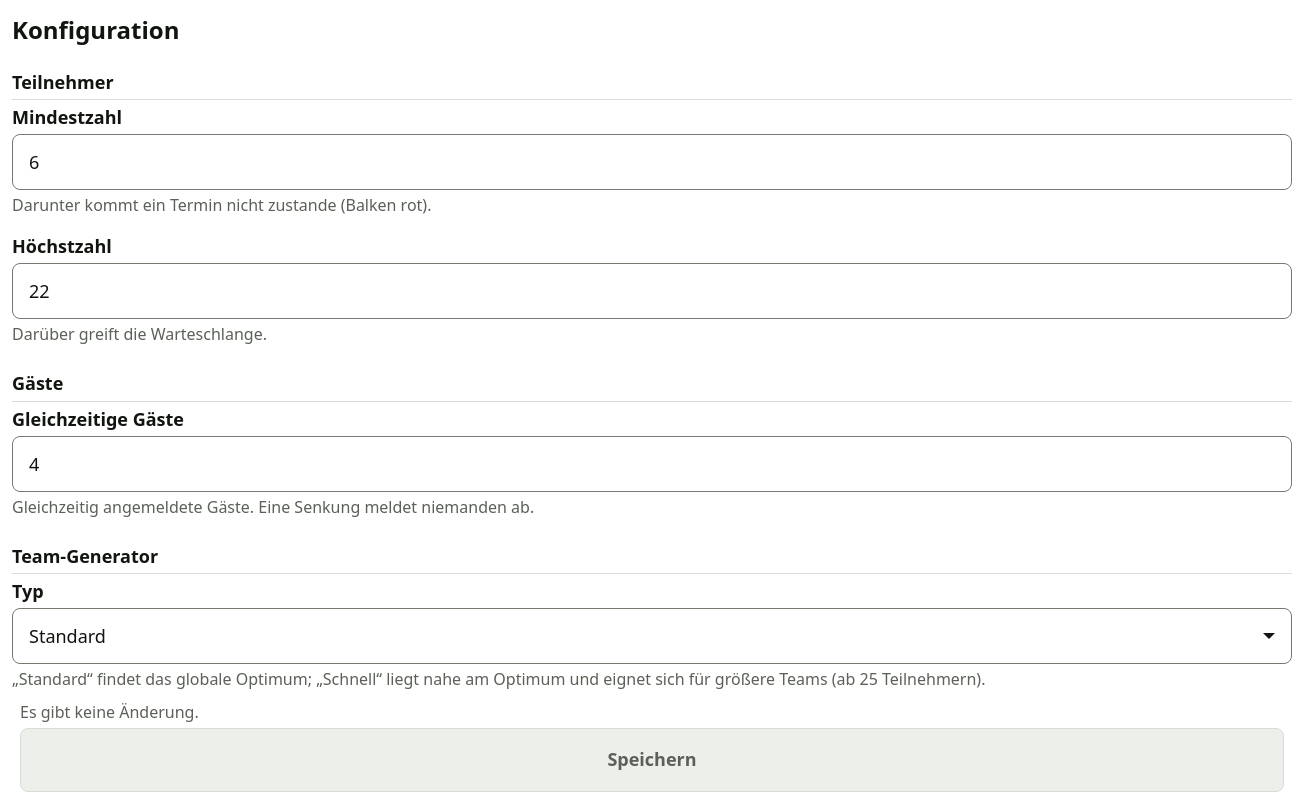
Scenario: AdminKonfiguration – Prüfung › beim Verlassen eines Feldes erscheint der Fehler, vorher nicht
Replace the text in the field with test id "admin-konfig-anzGuests" with "99": (652, 464) [12, 436, 1292, 492]
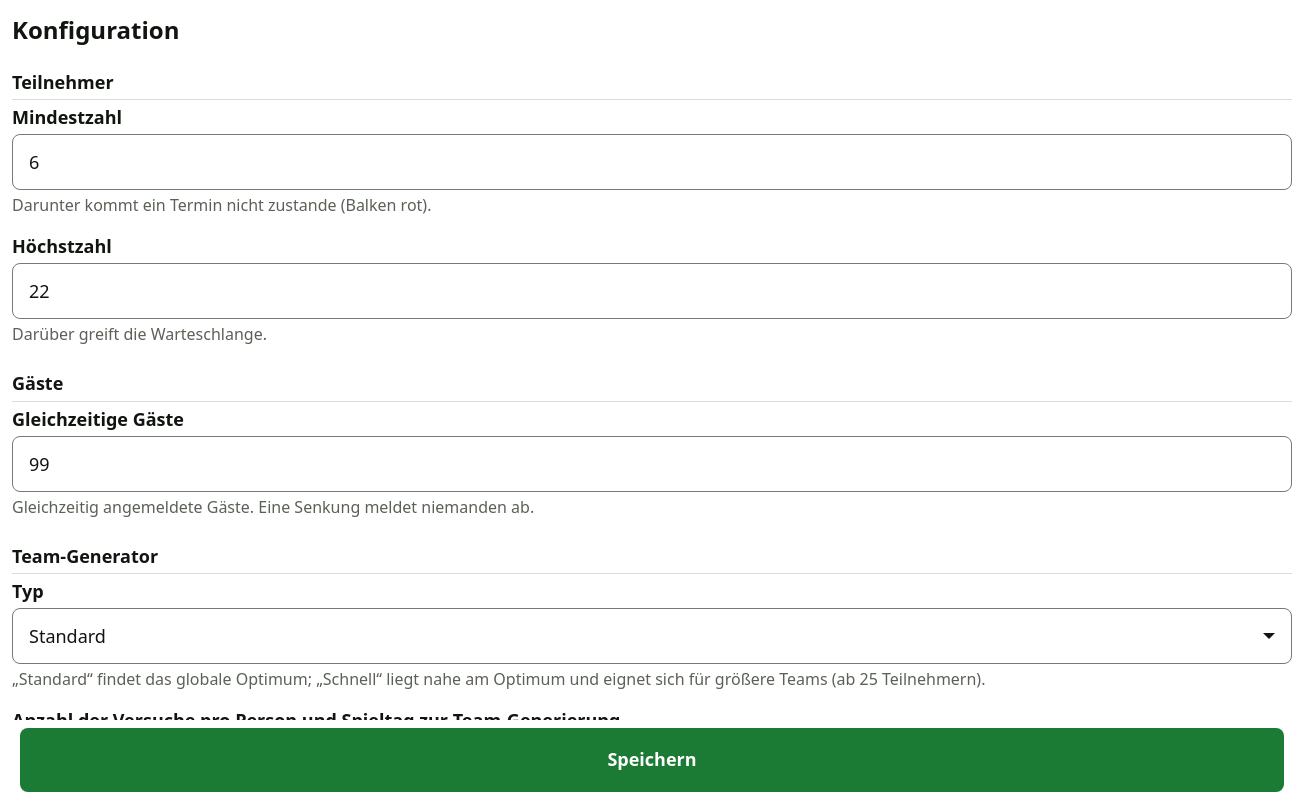
Leave the field with test id "admin-konfig-anzGuests", box [12, 436, 1292, 492]
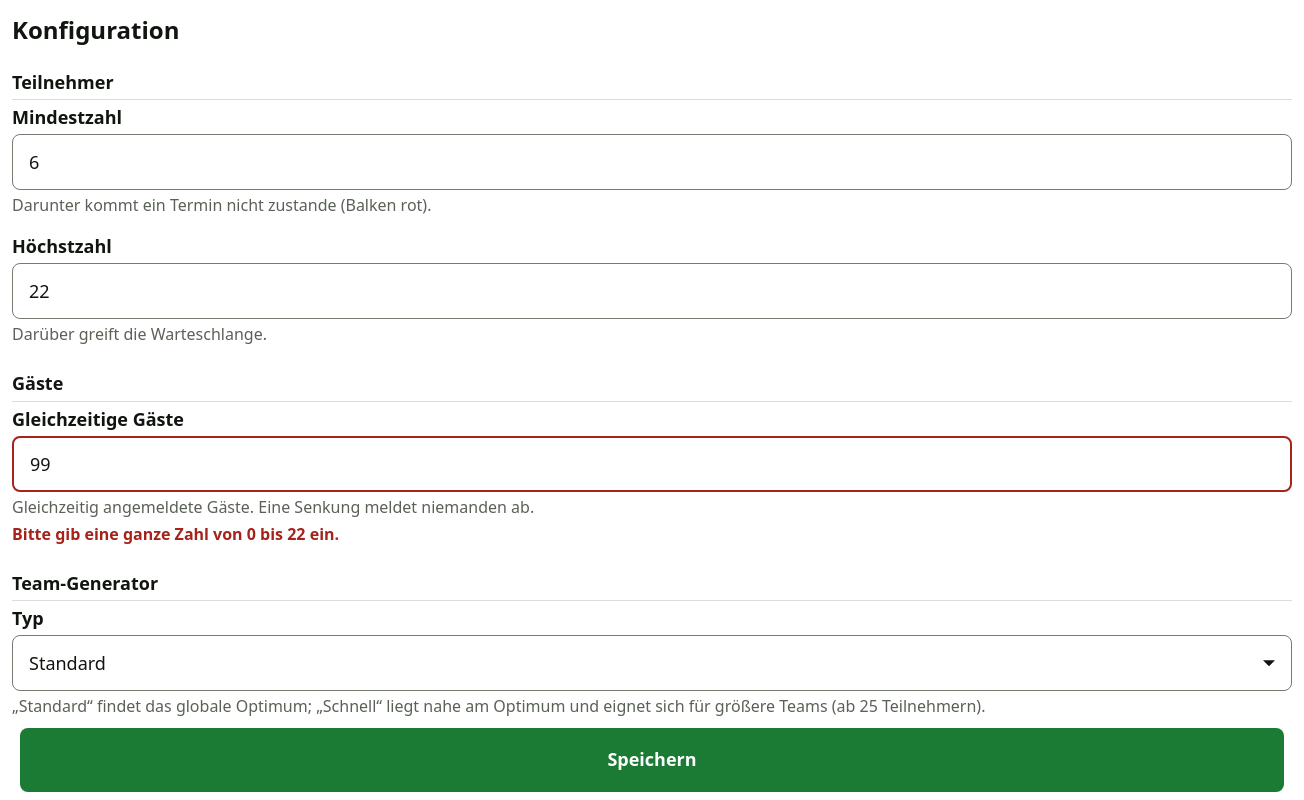
Result: the text "Bitte gib eine ganze Zahl von 0 bis 22 ein." is shown at [12, 523, 339, 545]
